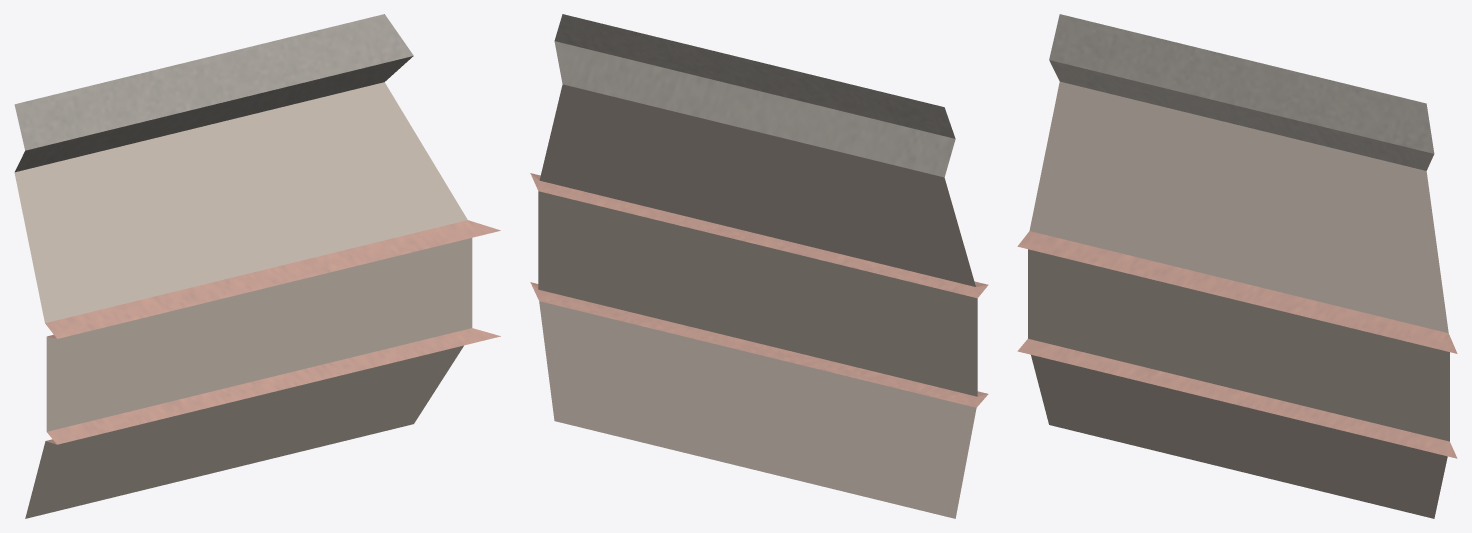
Rendered from Wall_Cuverd_90Left_Inside (10).obj.
The picture shows the model from 3 angles, left to right: view 1: azimuth 30°, elevation 25°; view 2: azimuth 150°, elevation 25°; view 3: azimuth 330°, elevation 25°; orthographic projection. The views are drawn at different scales.
Parts seen in each view (by area): view 1: Wall_Cuverd_90Left_Inside (10); view 2: Wall_Cuverd_90Left_Inside (10); view 3: Wall_Cuverd_90Left_Inside (10).
Part boxes in pixels (x1,y1,x2,y2): Wall_Cuverd_90Left_Inside (10): (14, 14, 500, 518); Wall_Cuverd_90Left_Inside (10): (530, 14, 988, 518); Wall_Cuverd_90Left_Inside (10): (1017, 14, 1457, 518).
Size of the model in its own units: 11.43 by 10 by 1.9.
